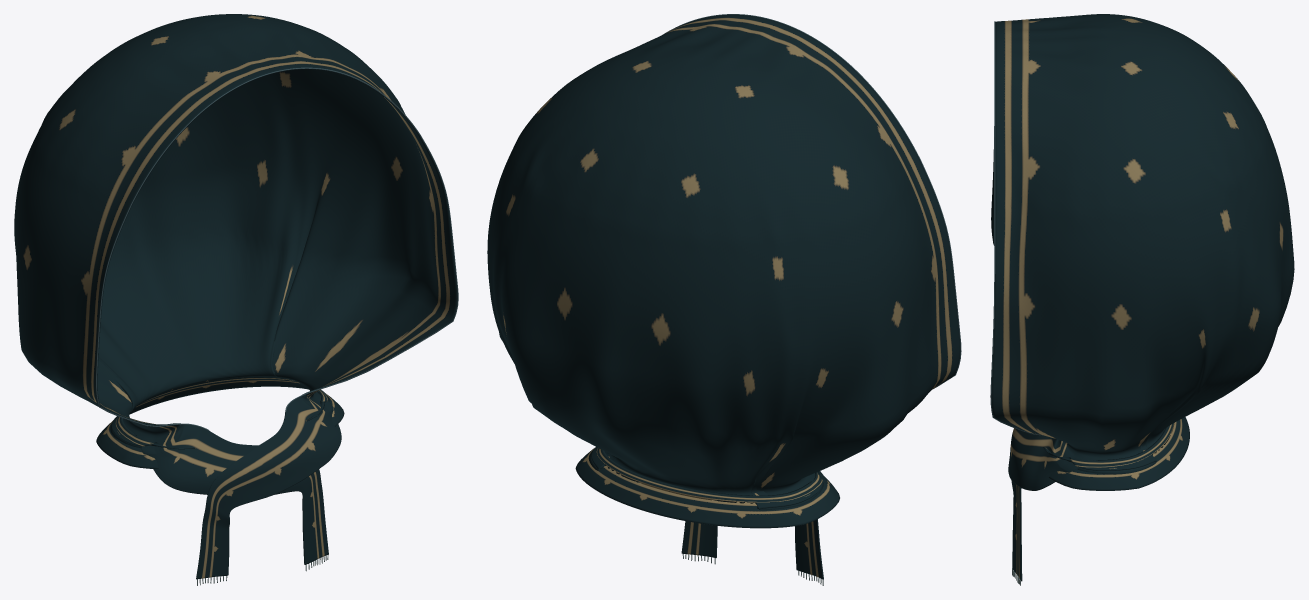
Rendered from Masculine-jersey-pashmina240-headgear.glb.
The picture shows the model from 3 angles, left to right: view 1: azimuth 30°, elevation 25°; view 2: azimuth 150°, elevation 25°; view 3: azimuth 270°, elevation 25°; orthographic projection. The views are drawn at different scales.
Parts seen in each view (by area): view 1: 226 headgear / Headwear / continuous woven pashmina239, 226 headgear / Headwear / face edge239; view 2: 226 headgear / Headwear / continuous woven pashmina239, 226 headgear / Headwear / face edge239; view 3: 226 headgear / Headwear / continuous woven pashmina239, 226 headgear / Headwear / face edge239.
Part boxes in pixels (<box>): 226 headgear / Headwear / continuous woven pashmina239: <box>14,14,457,579</box>; 226 headgear / Headwear / face edge239: <box>96,67,458,430</box>; 226 headgear / Headwear / continuous woven pashmina239: <box>487,14,960,579</box>; 226 headgear / Headwear / face edge239: <box>663,14,961,388</box>; 226 headgear / Headwear / continuous woven pashmina239: <box>991,14,1294,581</box>; 226 headgear / Headwear / face edge239: <box>990,21,1042,435</box>.
Bounding box in the file's own units: 1.03 × 1.35 × 0.7127.
3 materials, 1 textured.
